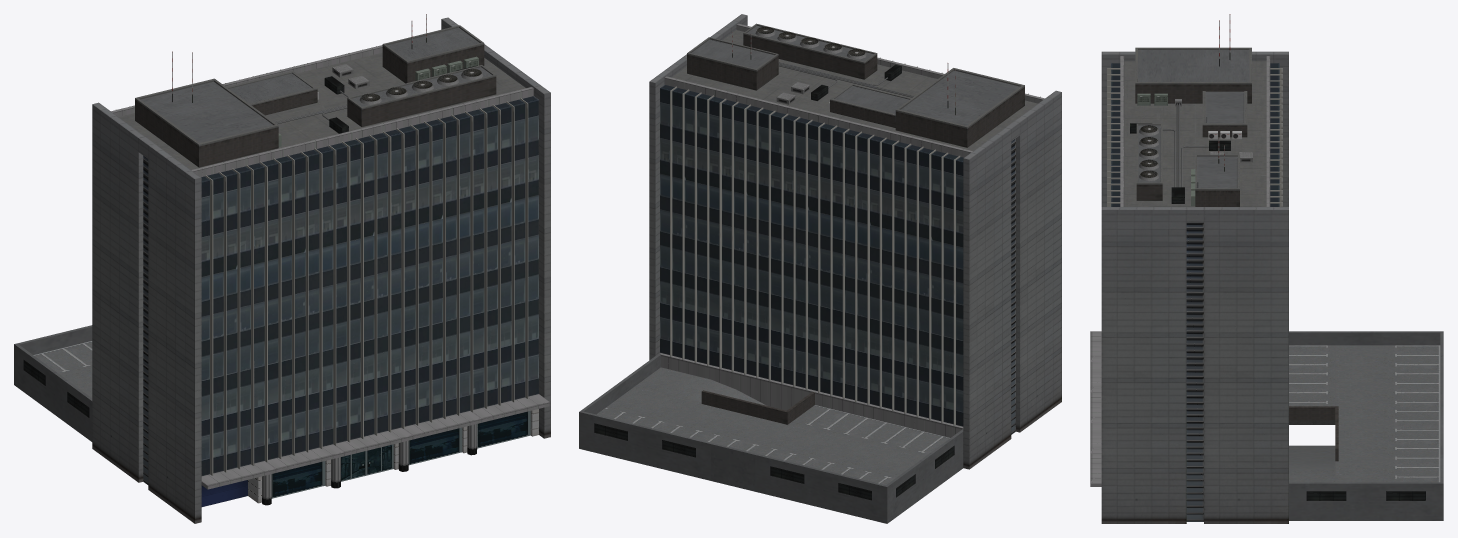
Rendered from building_25.fbx.
The picture shows the model from 3 angles, left to right: view 1: azimuth 30°, elevation 25°; view 2: azimuth 150°, elevation 25°; view 3: azimuth 270°, elevation 25°; orthographic projection. The views are drawn at different scales.
Parts seen in each view (by area): view 1: AIT01W2W2.001; view 2: AIT01W2W2.001; view 3: AIT01W2W2.001.
Boxes of the visible parts, x1,y1,x2,y2 form: AIT01W2W2.001: (14,14,550,523); AIT01W2W2.001: (579,14,1061,523); AIT01W2W2.001: (1090,14,1443,523).
Size of the model in its own units: 1309 by 1444 by 1233.
